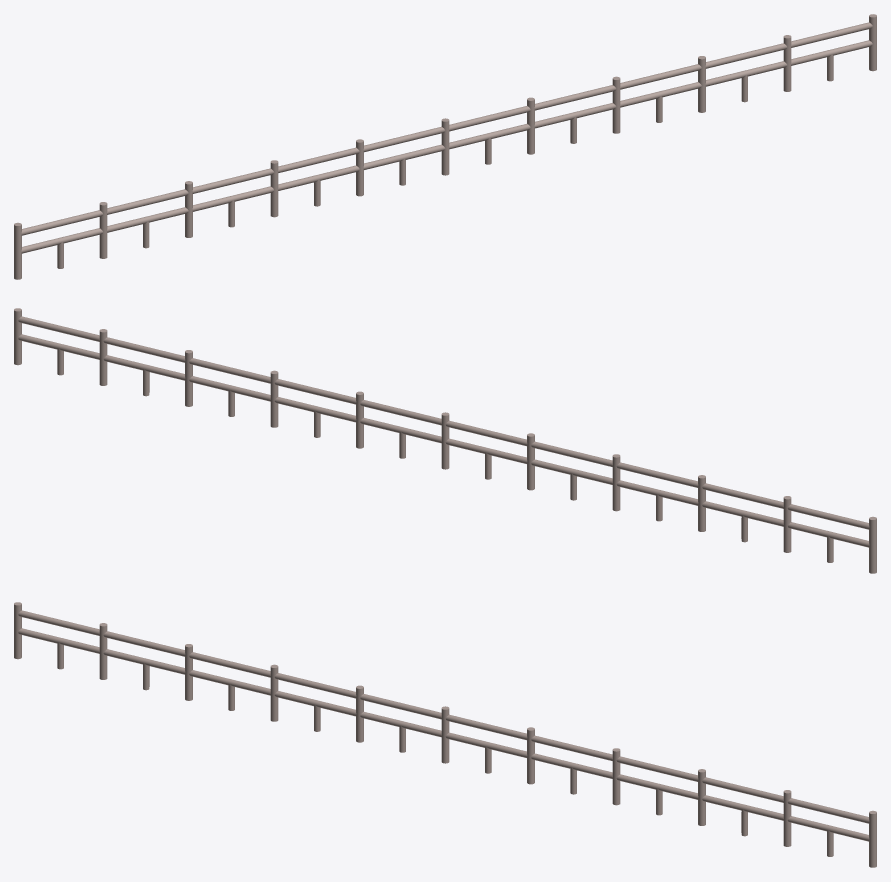
Rendered from 1025_fence_10.glb.
3 renders of one model, top to bottom at view 1: azimuth 30°, elevation 25°; view 2: azimuth 150°, elevation 25°; view 3: azimuth 330°, elevation 25°, orthographic.
Parts seen in each view (by area): view 1: Body; view 2: Body; view 3: Body.
Part boxes in pixels (x1,y1,x2,y2): Body: (14,14,876,279); Body: (14,308,876,573); Body: (14,602,876,867).
Size of the model in its own units: 15.12 by 0.9 by 0.12.
